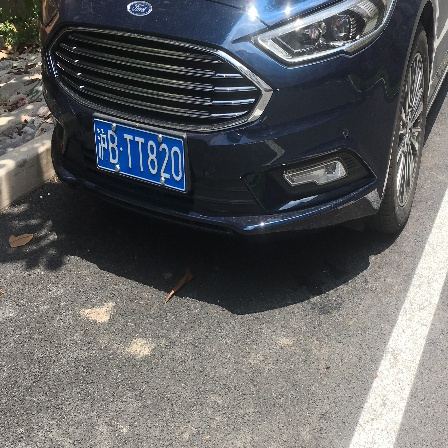plate: (88, 112, 194, 194)
